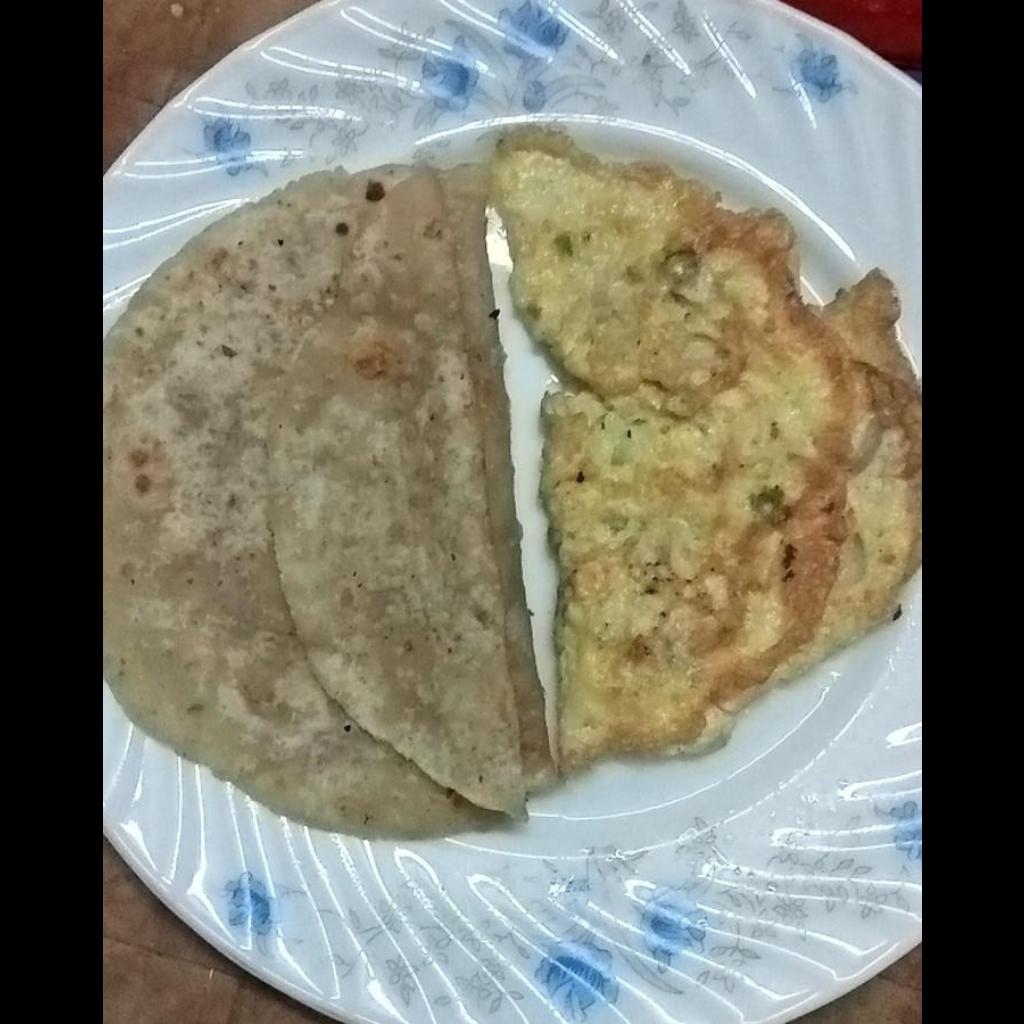egg-poached: (496, 129, 920, 767)
ruti: (102, 159, 557, 839)
